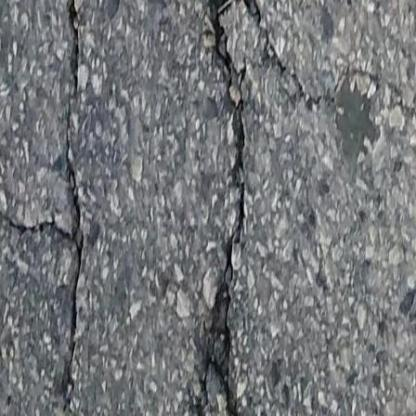Cracks: (162, 0, 280, 416), (176, 0, 415, 139), (54, 0, 94, 414), (0, 161, 94, 276)
